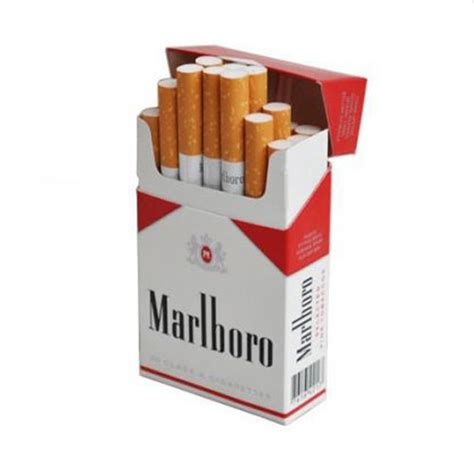cigarette: (137, 45, 370, 428), (219, 63, 250, 196), (175, 63, 204, 187), (243, 112, 274, 198), (202, 66, 220, 191), (157, 77, 178, 181), (262, 101, 291, 141), (248, 65, 268, 114)
